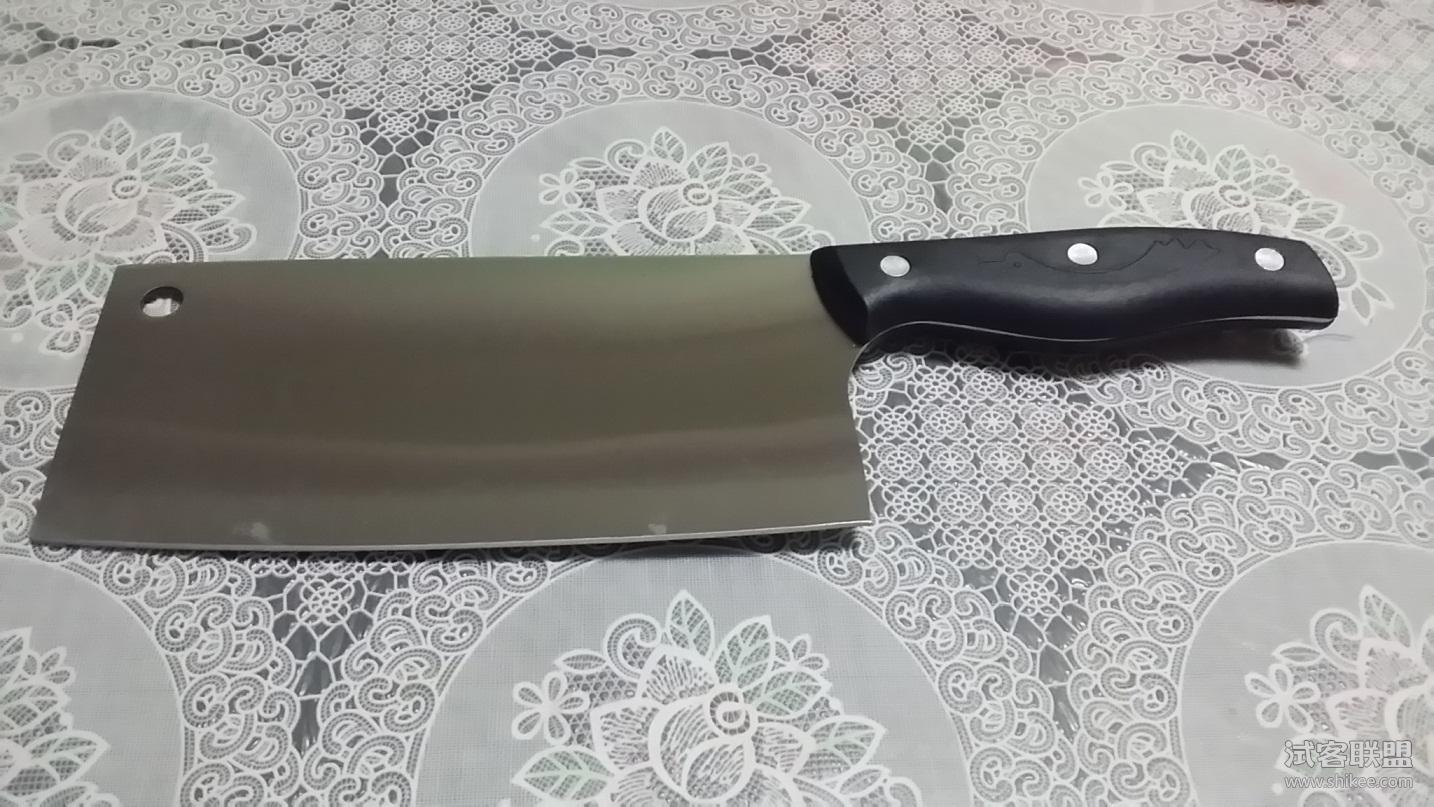knief: (76, 153, 1373, 591)
